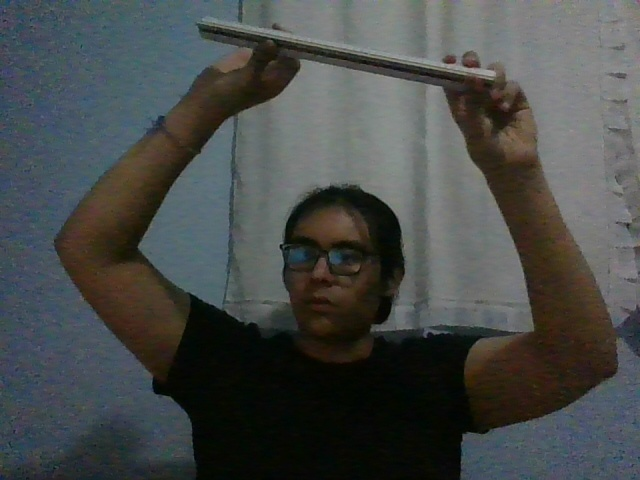regla: (196, 15, 496, 93)
